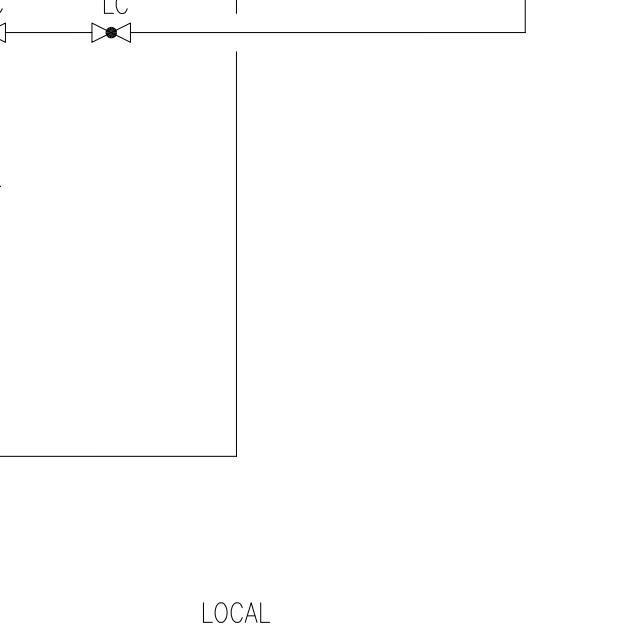BV2: (88, 18, 134, 45)
